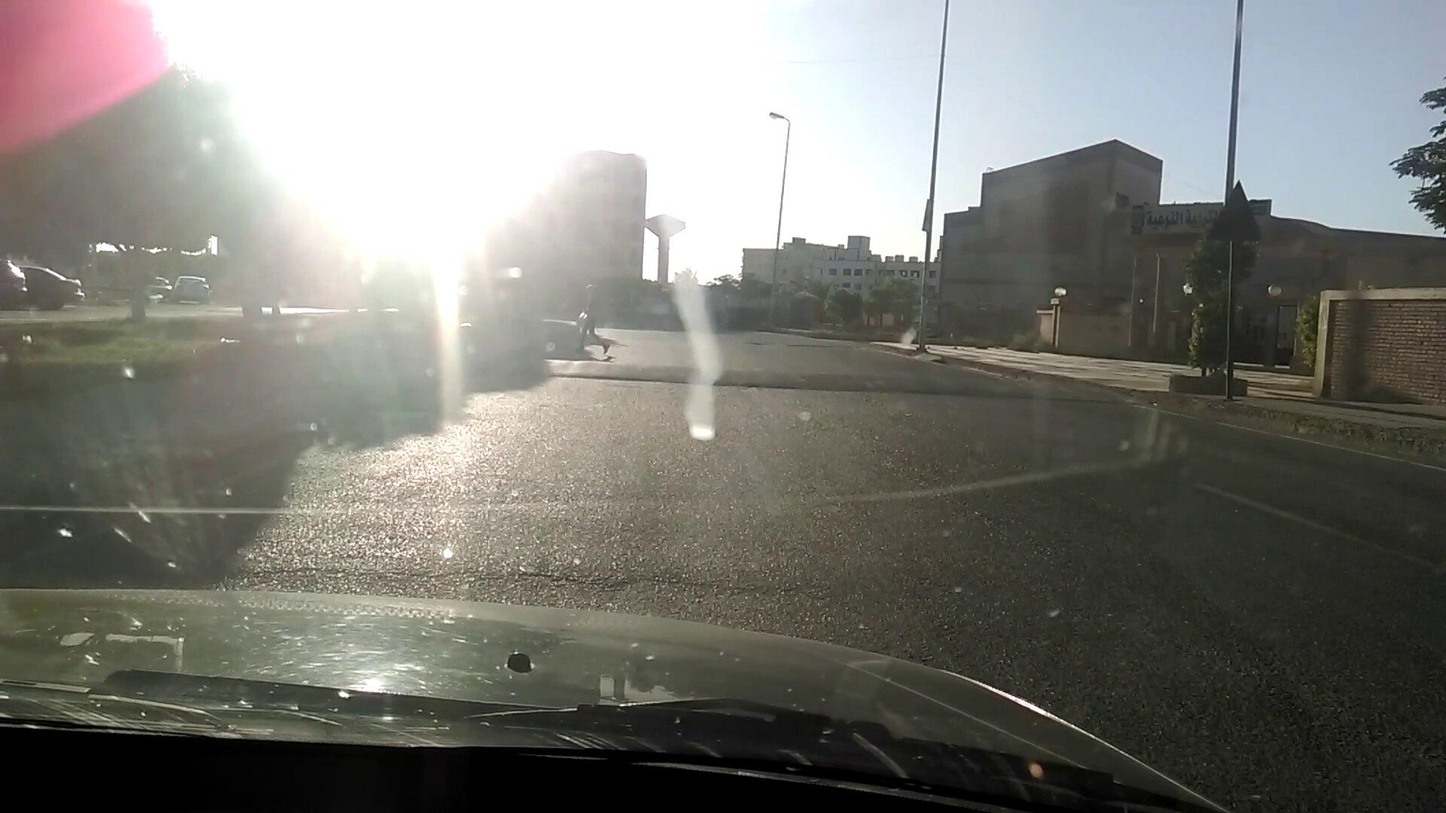Bump: (544, 358, 1073, 403)
